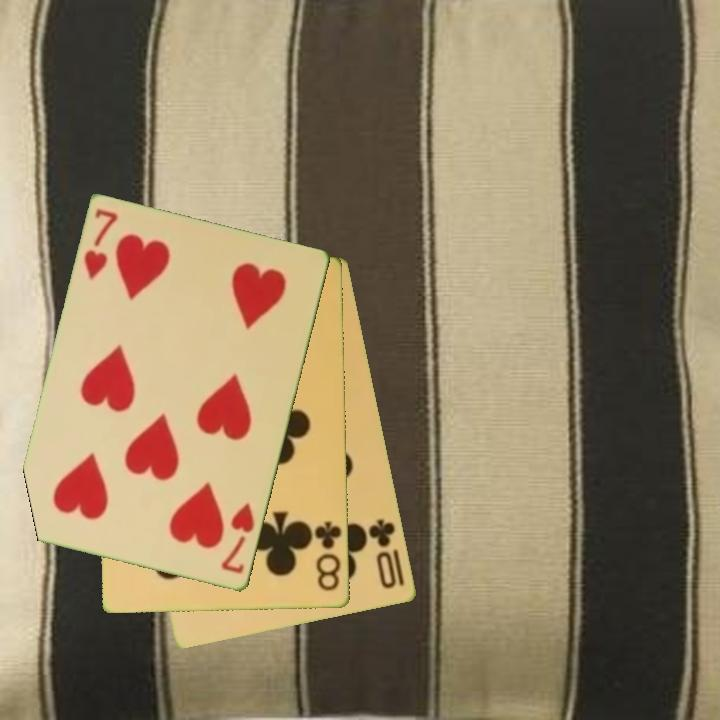10c: (365, 515, 400, 592)
7h: (217, 499, 258, 577), (81, 205, 122, 283)
8c: (312, 518, 345, 594)
